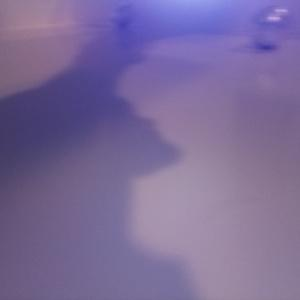alive_ball: (250, 11, 287, 48), (260, 6, 291, 35), (109, 2, 131, 25)
